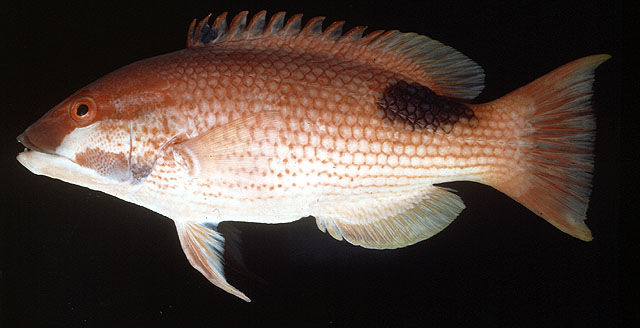fish: (18, 11, 613, 303)
